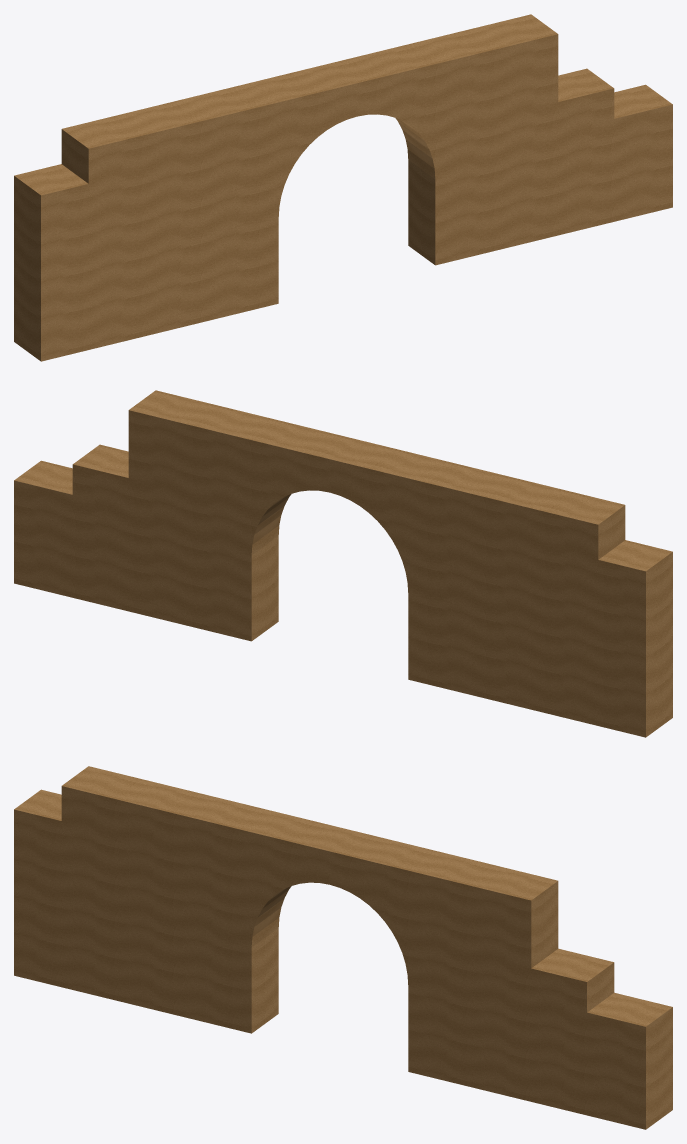
The model's file is floating_earth_wall_masonry.obj.
The picture shows the model from 3 angles, top to bottom: view 1: azimuth 30°, elevation 25°; view 2: azimuth 150°, elevation 25°; view 3: azimuth 330°, elevation 25°; orthographic projection.
Visible parts, largest first — view 1: FloatingEarthWall_masonry; view 2: FloatingEarthWall_masonry; view 3: FloatingEarthWall_masonry.
Part boxes in pixels (x1,y1,x2,y2): FloatingEarthWall_masonry: (14,14,672,361); FloatingEarthWall_masonry: (14,390,672,737); FloatingEarthWall_masonry: (14,766,672,1129).
Bounding box in the file's own units: 11.3 × 3.44 × 0.84.
1 material, 1 textured.
